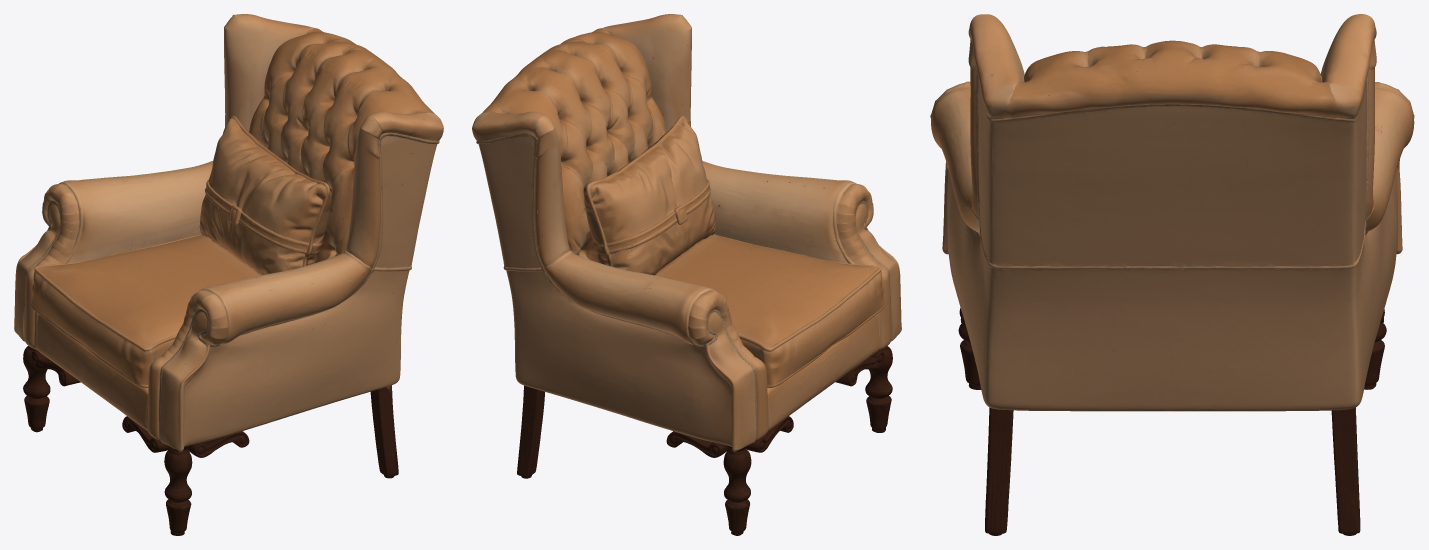
The model's file is fahrenheit-armchair.glb.
The picture shows the model from 3 angles, left to right: view 1: azimuth 30°, elevation 25°; view 2: azimuth 150°, elevation 25°; view 3: azimuth 270°, elevation 25°; orthographic projection. The views are drawn at different scales.
Size of the model in its own units: 1.73 by 2 by 1.73.
Materials: 1 (1 with a texture image).
